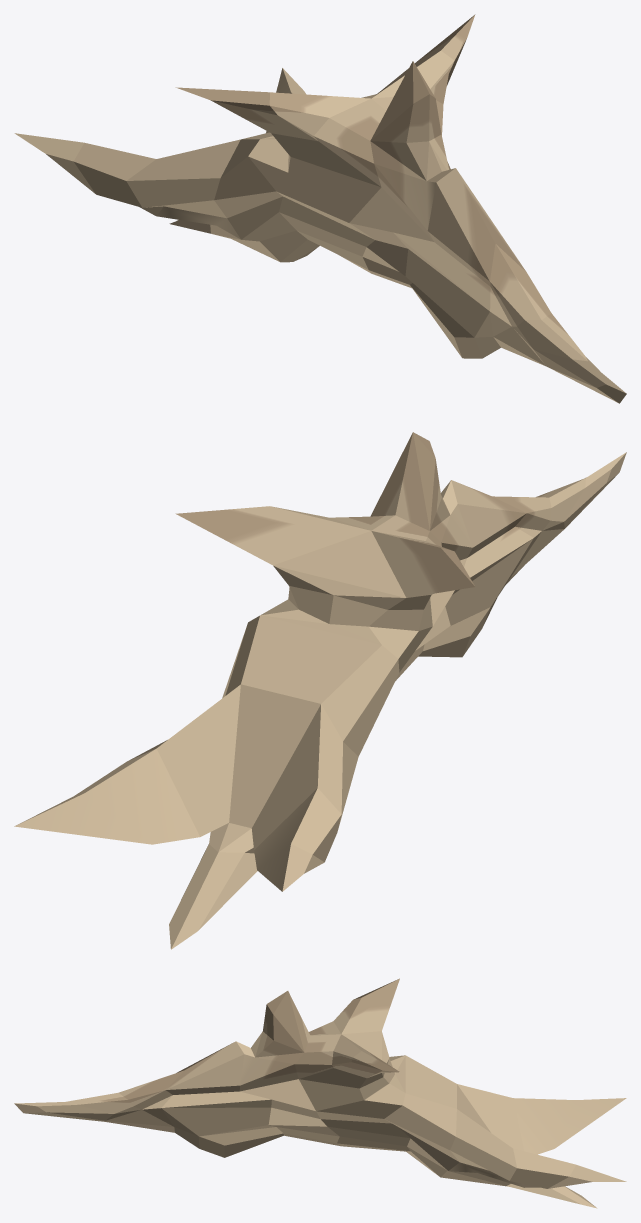
The model's file is SM_Veh_Ship_S_Ram_02.fbx.
The picture shows the model from 3 angles, top to bottom: view 1: azimuth 30°, elevation 25°; view 2: azimuth 150°, elevation 25°; view 3: azimuth 270°, elevation 25°; orthographic projection. The views are drawn at different scales.
Visible parts, largest first — view 1: SM_Veh_Ship_S_Ram_02; view 2: SM_Veh_Ship_S_Ram_02; view 3: SM_Veh_Ship_S_Ram_02.
Part boxes in pixels (bbox=[...]): SM_Veh_Ship_S_Ram_02: bbox=[14, 14, 626, 403]; SM_Veh_Ship_S_Ram_02: bbox=[14, 432, 626, 949]; SM_Veh_Ship_S_Ram_02: bbox=[14, 978, 626, 1208].
Size of the model in its own units: 213 by 231 by 588.
